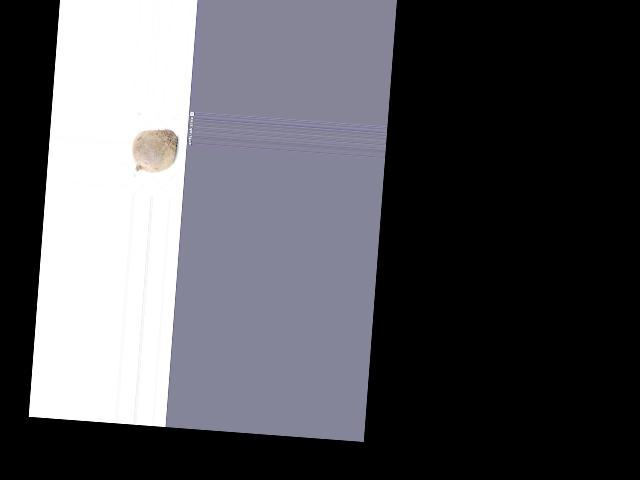beet: (131, 127, 178, 174)
